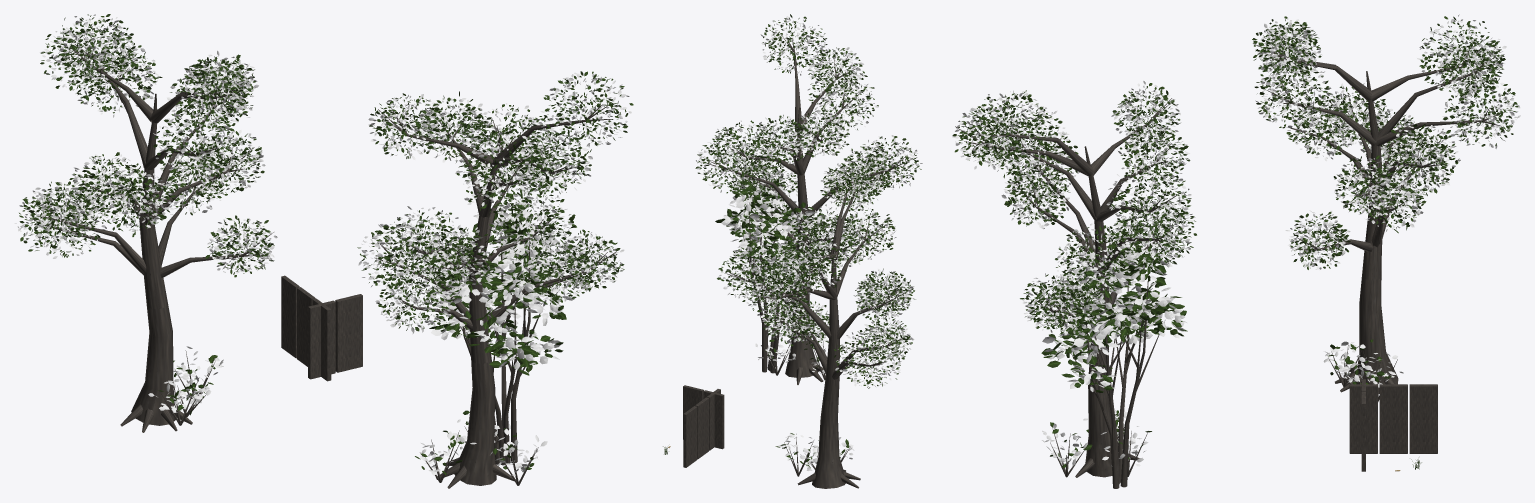
Rendered from SM_Env_Tile_m3_p2.fbx.
The picture shows the model from 3 angles, left to right: view 1: azimuth 30°, elevation 25°; view 2: azimuth 150°, elevation 25°; view 3: azimuth 270°, elevation 25°; orthographic projection. The views are drawn at different scales.
Parts seen in each view (by area): view 1: SM_Env_Tile_m3_p2; view 2: SM_Env_Tile_m3_p2; view 3: SM_Env_Tile_m3_p2.
Part boxes in pixels (box(x1,y1,x2,y2)): SM_Env_Tile_m3_p2: box(15, 14, 633, 488); SM_Env_Tile_m3_p2: box(663, 14, 922, 488); SM_Env_Tile_m3_p2: box(952, 14, 1520, 488).
Size of what is drawn, in the model's own units: 1515 by 1899 by 1496.
Materials: 7 (4 with a texture image).
